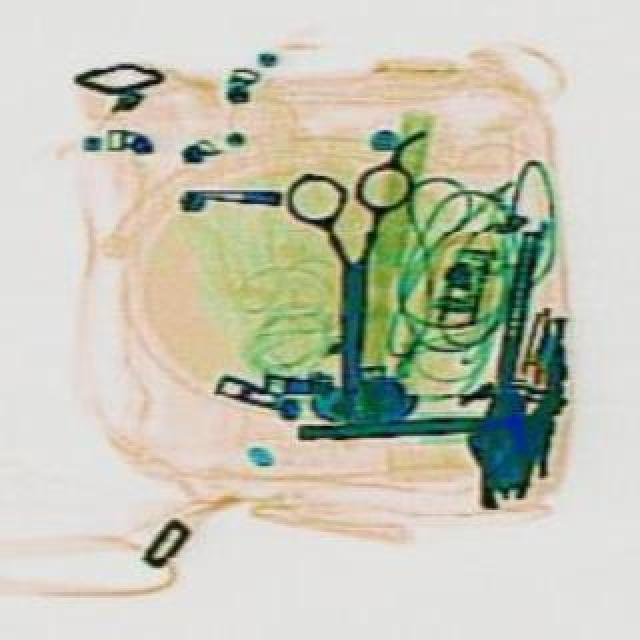pliers: (282, 160, 410, 388)
